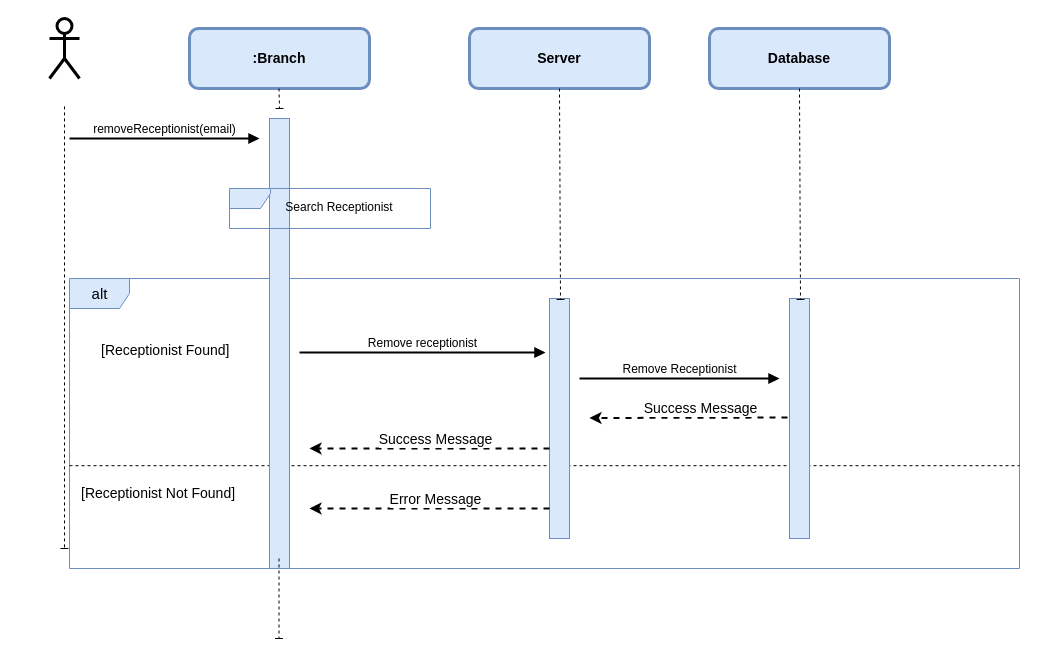
Image size: 1037x664. Some labels were removed from this diagram. Here are the shapes that lost their labels. From the top down, the centre of each, then its label:
point (64, 48): Branch Manager
point (329, 208): ref
